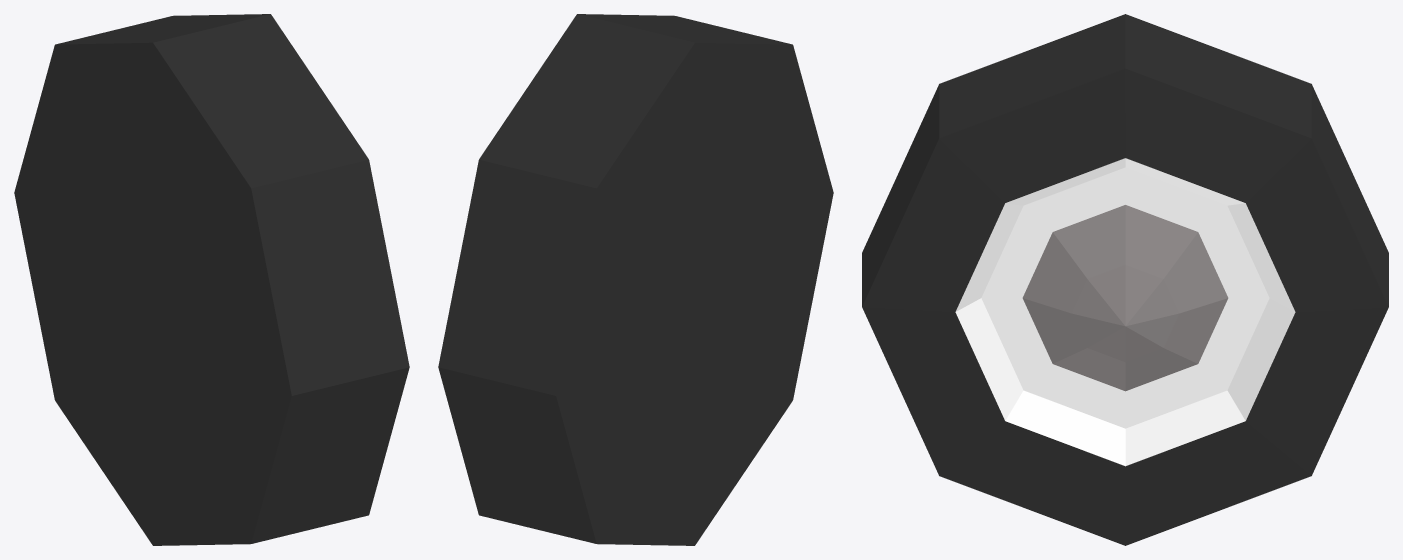
The model's file is car-veteran-wheel_FL.glb.
3 views of the same model, side by side, from view 1: azimuth 30°, elevation 25°; view 2: azimuth 150°, elevation 25°; view 3: azimuth 270°, elevation 25° (orthographic). The views are drawn at different scales.
Visible parts, largest first — view 1: car-veteran-wheel_FL; view 2: car-veteran-wheel_FL; view 3: car-veteran-wheel_FL.
Part boxes in pixels (x1,y1,x2,y2): car-veteran-wheel_FL: (14, 14, 409, 545); car-veteran-wheel_FL: (438, 14, 833, 545); car-veteran-wheel_FL: (862, 14, 1388, 545).
Bounding box in the file's own units: 0.2393 × 0.7234 × 0.7234.
1 material, 1 textured.
